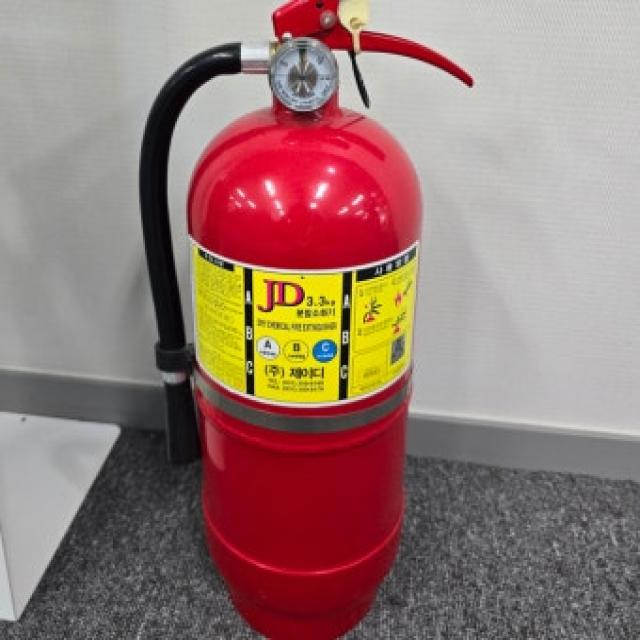pressure gauge: (269, 37, 335, 111)
